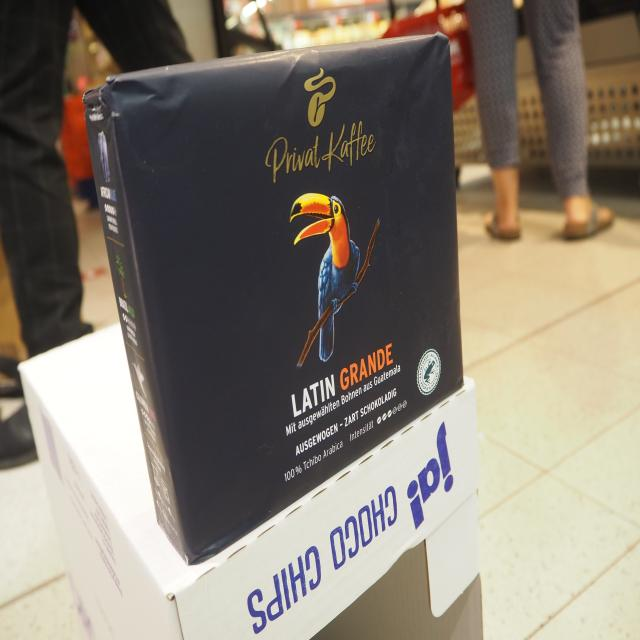LG Gemahlen: (98, 28, 467, 575)
